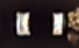COMP: (11, 8, 66, 36)
STAN: (68, 8, 79, 30), (68, 33, 78, 44)
